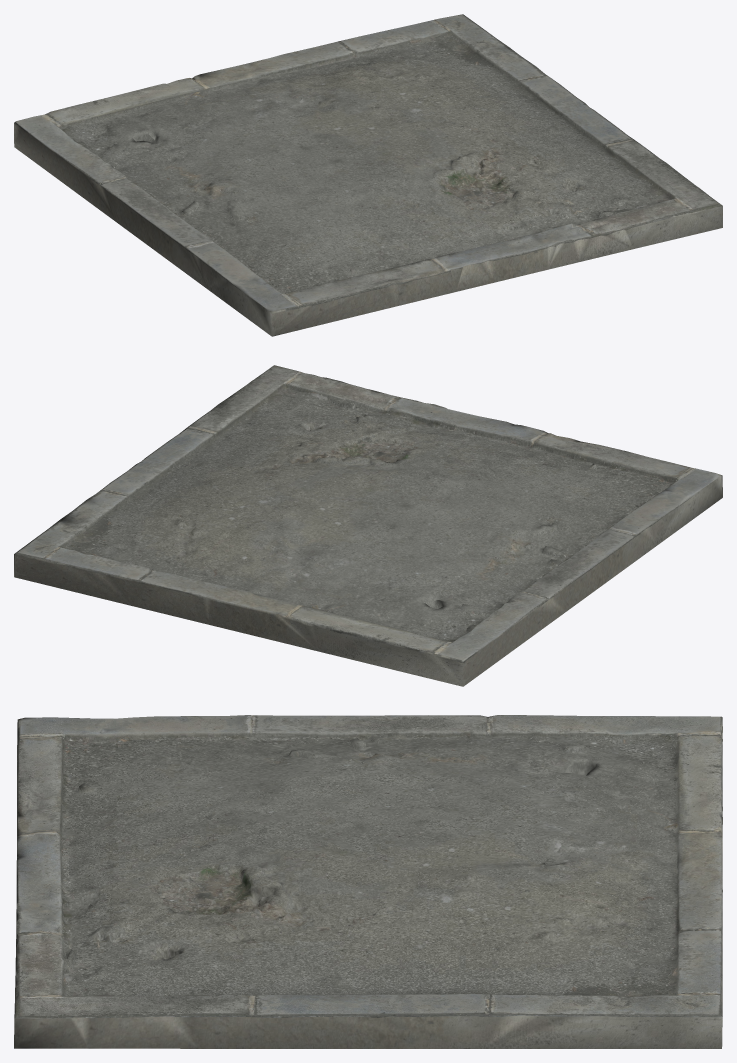
File: PX_Tree_Pit_02_LOD2.fbx
The picture shows the model from 3 angles, top to bottom: view 1: azimuth 30°, elevation 25°; view 2: azimuth 150°, elevation 25°; view 3: azimuth 270°, elevation 25°; orthographic projection. The views are drawn at different scales.
Visible parts, largest first — view 1: PX_Tree_Pit_02_LOD2; view 2: PX_Tree_Pit_02_LOD2; view 3: PX_Tree_Pit_02_LOD2.
Part boxes in pixels (x1,y1,x2,y2): PX_Tree_Pit_02_LOD2: (14, 14, 722, 336); PX_Tree_Pit_02_LOD2: (14, 365, 722, 686); PX_Tree_Pit_02_LOD2: (14, 715, 722, 1048).
Size of the model in its own units: 99.74 by 8.61 by 99.87.
